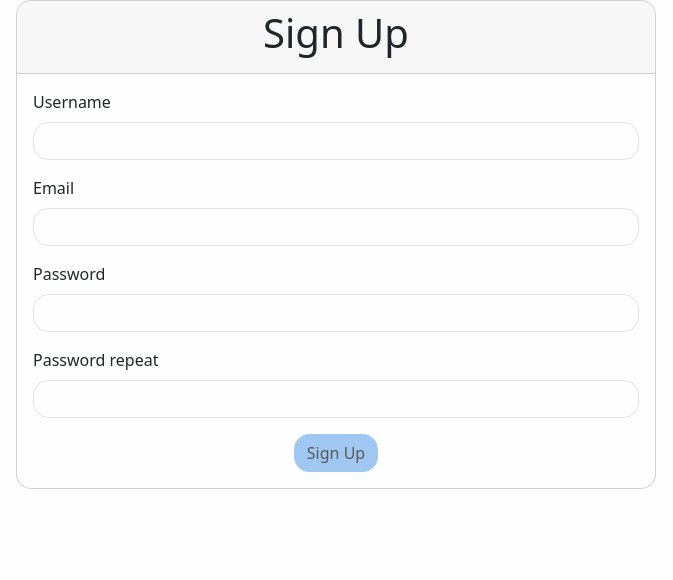
Test: Sign Up › when user sets same value for password inputs › when network failure occurs › displays generic message
This screenshot has width=673, height=580.
Type "user1" into the field labelled "Username" at (336, 141), box x1=33 y1=122 x2=639 y2=160
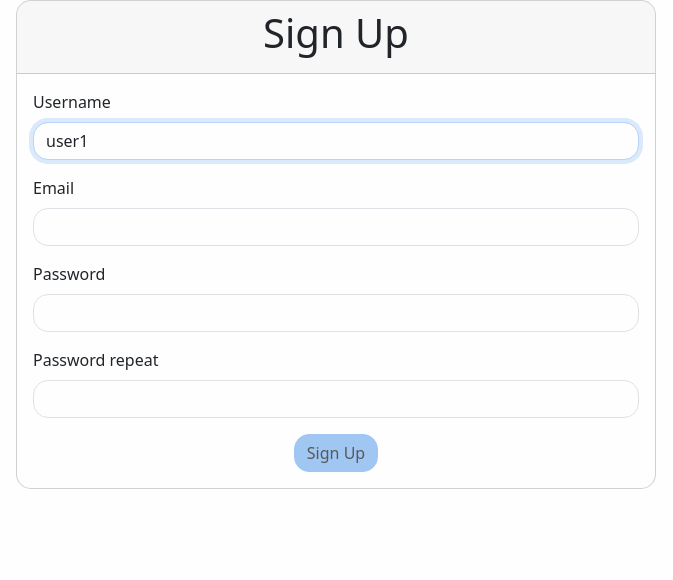
Type "user1@mail.com" into the field labelled "Email" at (336, 227), box x1=33 y1=208 x2=639 y2=246
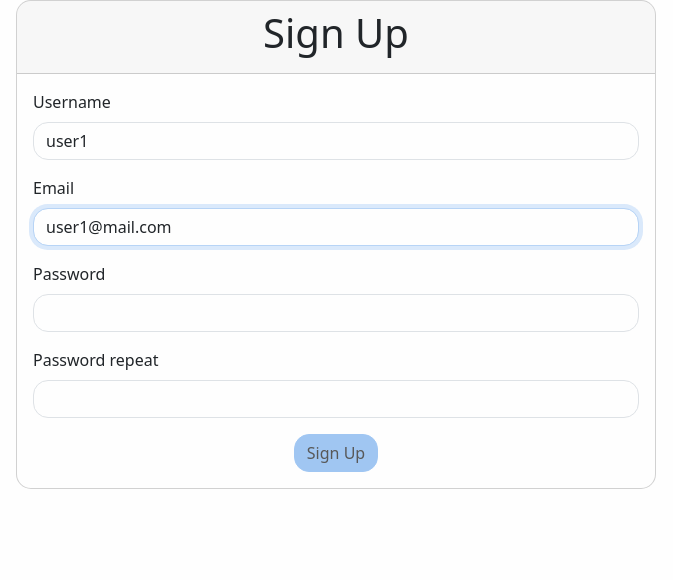
Type "P4ssword" into the password field labelled "Password" at (336, 313), box x1=33 y1=294 x2=639 y2=332
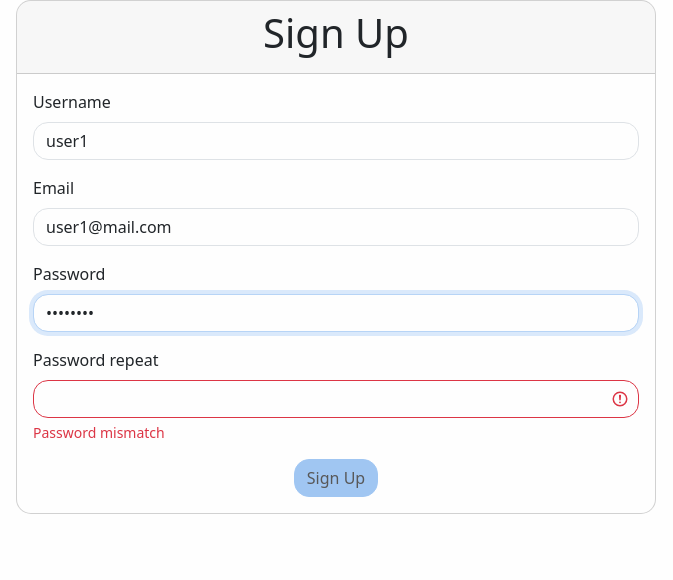
Type "P4ssword" into the password field labelled "Password repeat" at (336, 399), box x1=33 y1=380 x2=639 y2=418
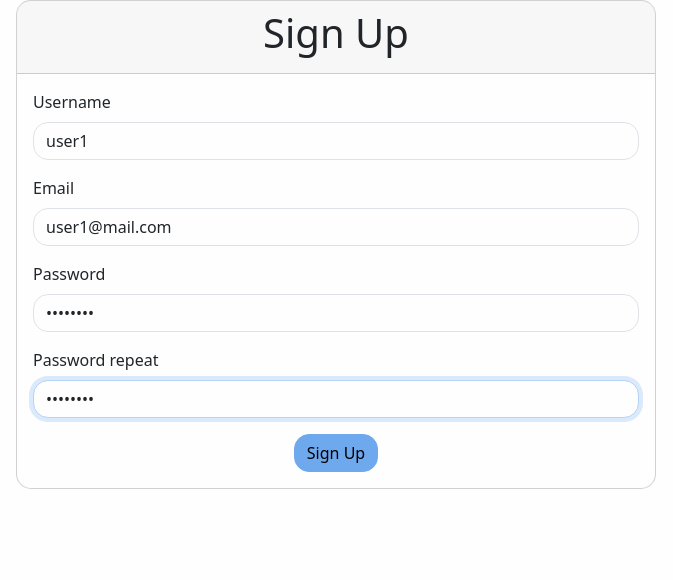
Click the button "Sign Up" at (336, 453), box x1=294 y1=434 x2=378 y2=472
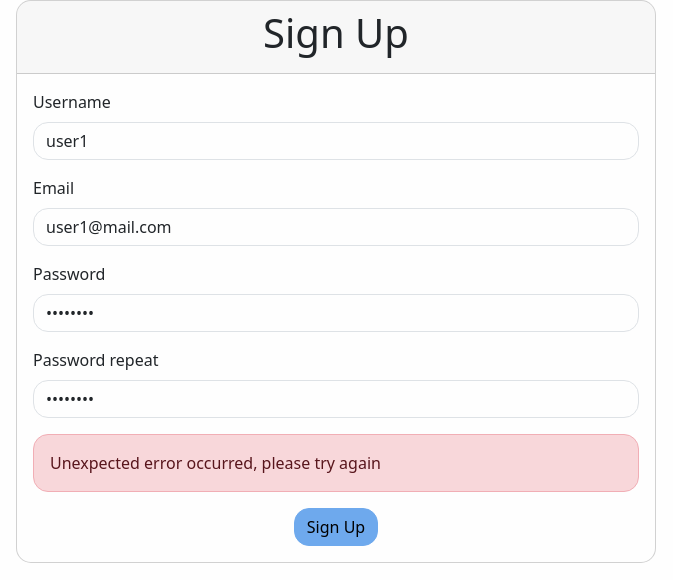
Expected: the text "Unexpected error occurred, please try again" is shown, x1=33 y1=434 x2=639 y2=492
